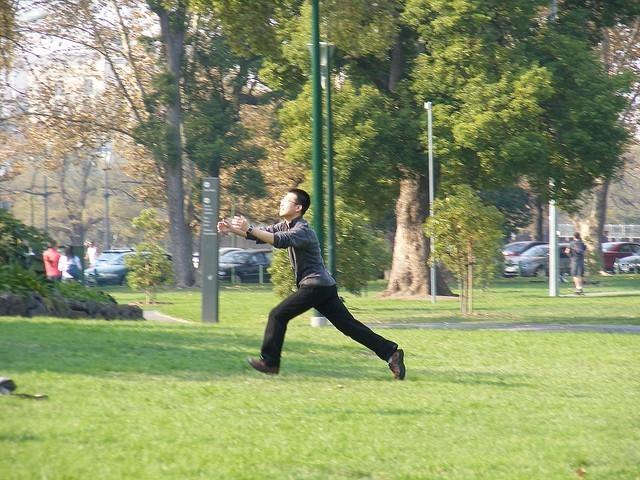car: (501, 240, 571, 278), (218, 248, 271, 284), (84, 250, 134, 286), (192, 246, 244, 274), (601, 242, 640, 269), (502, 238, 550, 258), (613, 248, 640, 273)
